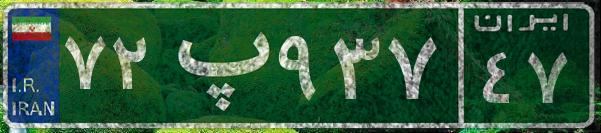2: (110, 28, 158, 105)
3: (330, 28, 385, 110)
4: (475, 38, 525, 113)
7: (385, 28, 445, 110), (57, 26, 110, 107), (525, 38, 570, 115)
9: (273, 28, 330, 110)
پ: (158, 15, 273, 115)
